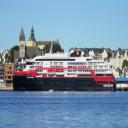cruises: (13, 43, 118, 94)
